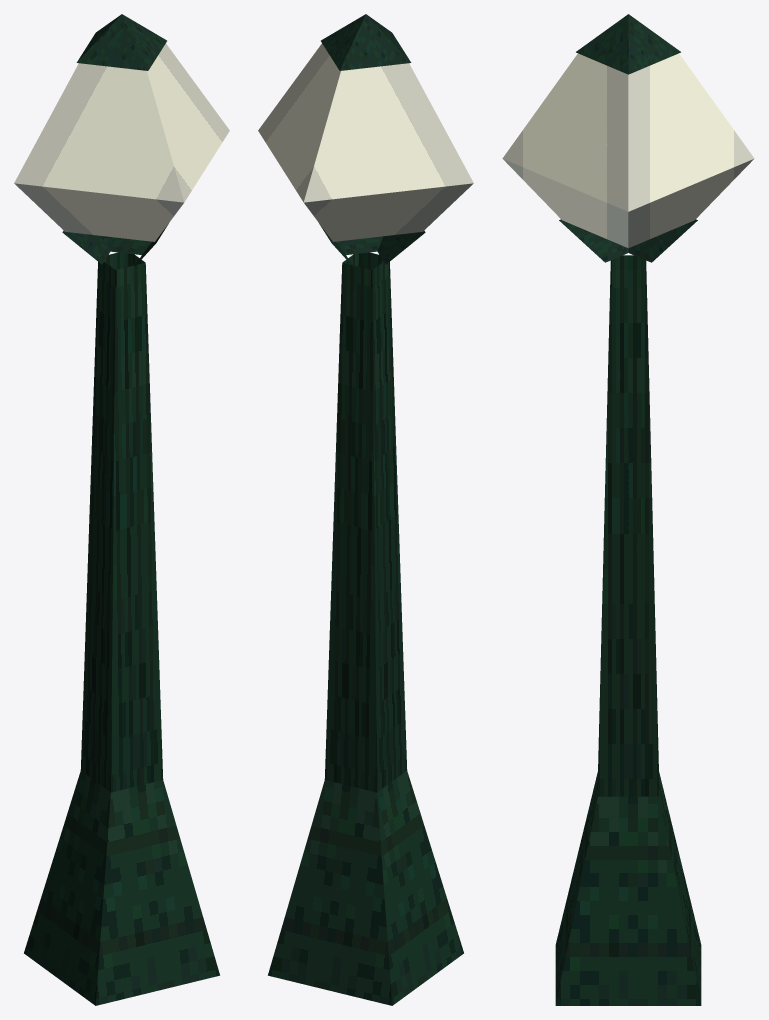
File: lamp.glb
3 renders of one model, left to right at view 1: azimuth 30°, elevation 25°; view 2: azimuth 150°, elevation 25°; view 3: azimuth 270°, elevation 25°, orthographic.
Parts seen in each view (by area): view 1: Lamp; view 2: Lamp; view 3: Lamp.
Boxes of the visible parts, x1=… form: Lamp: x1=14, y1=14, x2=229, y2=1005; Lamp: x1=258, y1=14, x2=473, y2=1005; Lamp: x1=502, y1=14, x2=754, y2=1005.
Bounding box in the file's own units: 1.07 × 4.52 × 1.07.
1 material, 1 textured.
